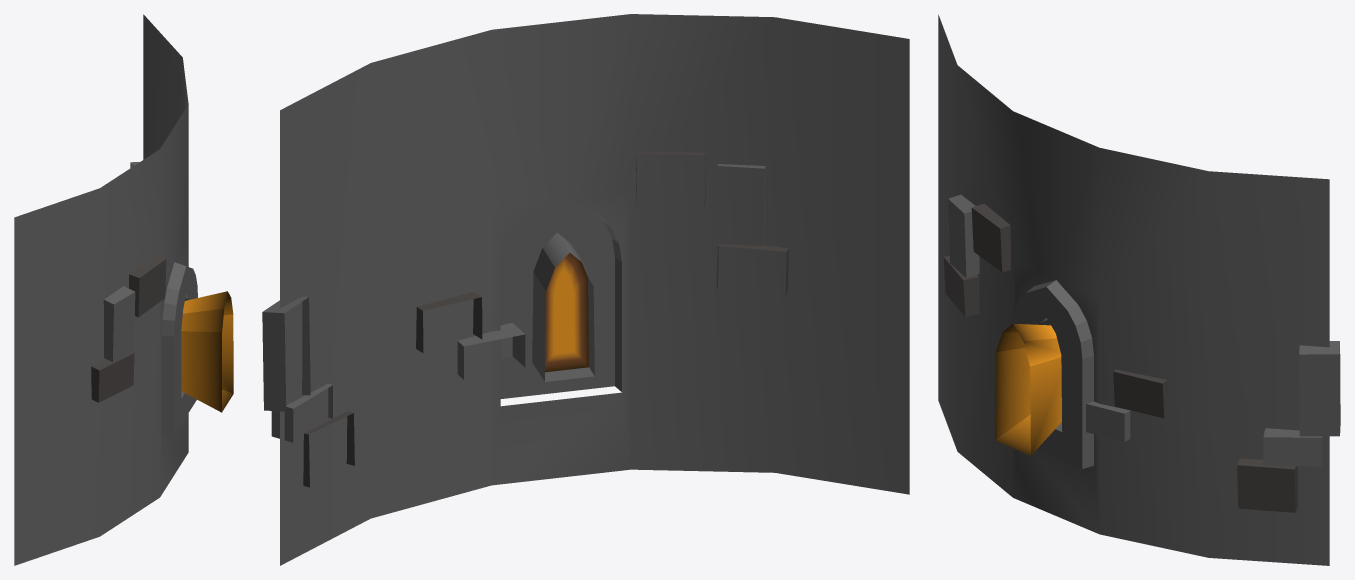
File: CurvedWall_FakeSmallWindow.fbx
The picture shows the model from 3 angles, left to right: view 1: azimuth 30°, elevation 25°; view 2: azimuth 150°, elevation 25°; view 3: azimuth 270°, elevation 25°; orthographic projection. The views are drawn at different scales.
Parts seen in each view (by area): view 1: CurvedWall_FakeSmallWindow, CurvedWall_FakeSmallWindowLight; view 2: CurvedWall_FakeSmallWindow, CurvedWall_FakeSmallWindowLight; view 3: CurvedWall_FakeSmallWindow, CurvedWall_FakeSmallWindowLight.
Part boxes in pixels (box(x1,y1,x2,y2)): CurvedWall_FakeSmallWindow: box(14, 14, 197, 565); CurvedWall_FakeSmallWindowLight: box(181, 291, 233, 412); CurvedWall_FakeSmallWindow: box(262, 14, 909, 565); CurvedWall_FakeSmallWindowLight: box(545, 253, 588, 372); CurvedWall_FakeSmallWindow: box(938, 14, 1340, 565); CurvedWall_FakeSmallWindowLight: box(995, 323, 1061, 455).
Size of the model in its own units: 5.45 by 5.76 by 5.43.
